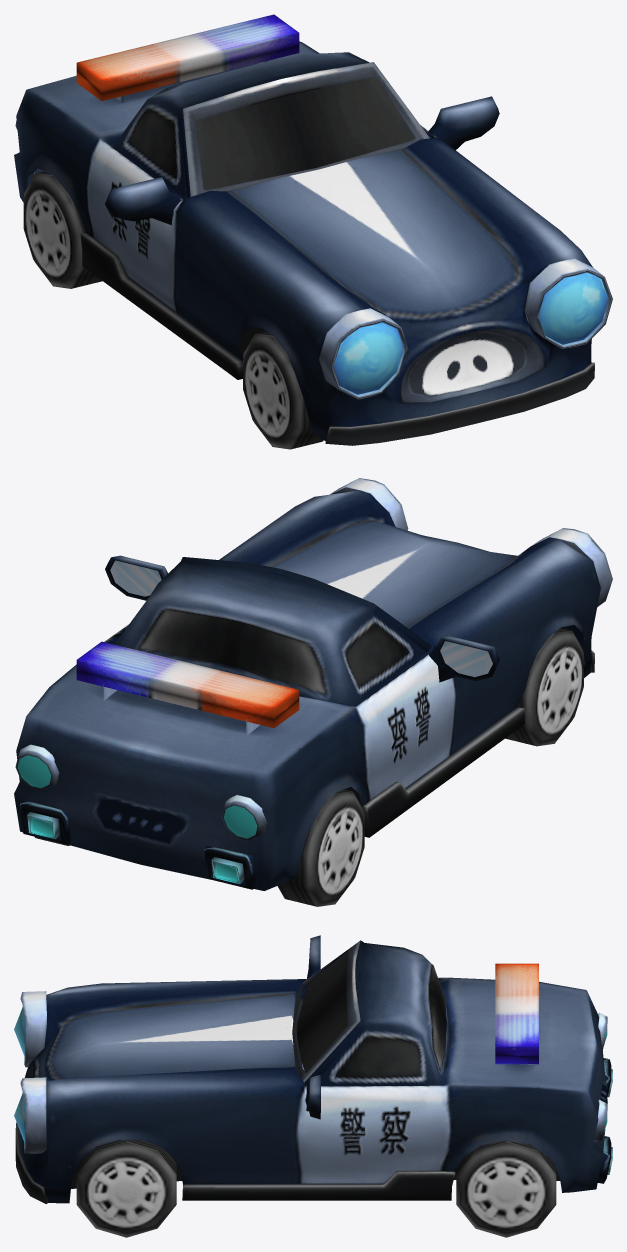
File: npc_jingche.fbx
The picture shows the model from 3 angles, top to bottom: view 1: azimuth 30°, elevation 25°; view 2: azimuth 150°, elevation 25°; view 3: azimuth 270°, elevation 25°; orthographic projection. The views are drawn at different scales.
Parts seen in each view (by area): view 1: npc_jingche1; view 2: npc_jingche1; view 3: npc_jingche1.
Boxes of the visible parts, x1,y1,x2,y2 form: npc_jingche1: (14,14,612,449); npc_jingche1: (14,478,612,906); npc_jingche1: (14,935,612,1237).
Size of the model in its own units: 24.28 by 13.99 by 37.01.
